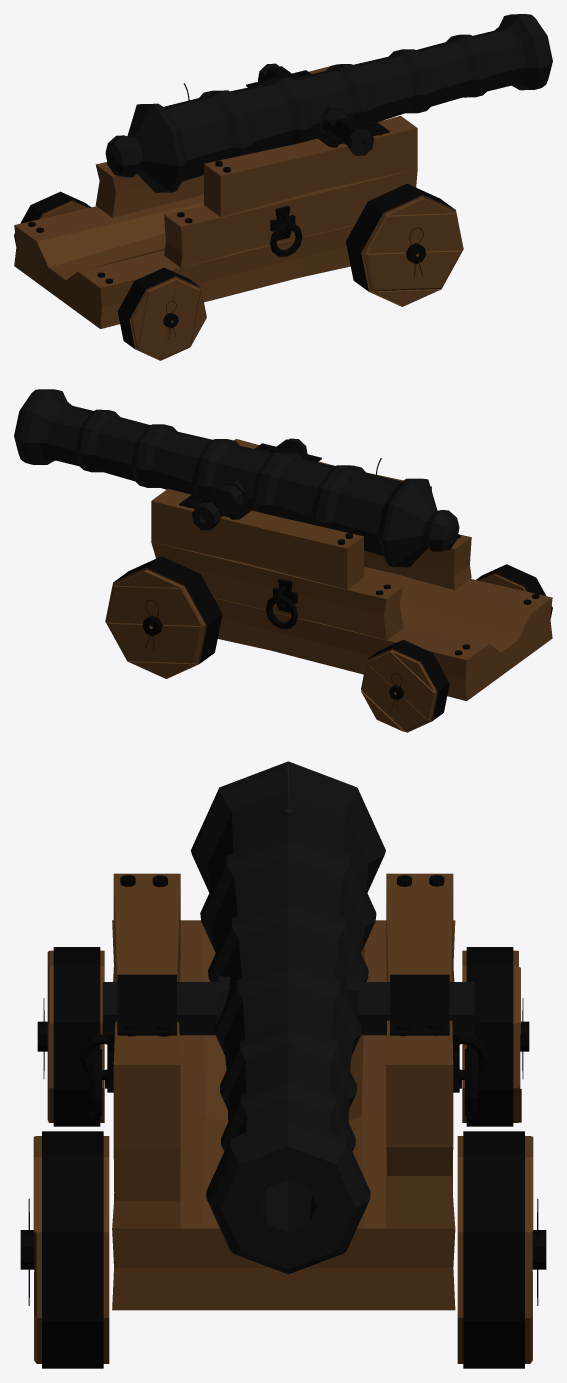
File: Canon.obj
3 renders of one model, top to bottom at view 1: azimuth 30°, elevation 25°; view 2: azimuth 150°, elevation 25°; view 3: azimuth 270°, elevation 25°, orthographic. The views are drawn at different scales.
Parts seen in each view (by area): view 1: Base, Shaft; view 2: Base, Shaft; view 3: Base, Shaft.
Part boxes in pixels (bbox=[...]): Base: bbox=[14, 66, 463, 360]; Shaft: bbox=[105, 14, 552, 192]; Base: bbox=[105, 439, 552, 732]; Shaft: bbox=[14, 389, 459, 567]; Base: bbox=[20, 873, 546, 1368]; Shaft: bbox=[102, 761, 474, 1274].
Size of the model in its own units: 4.2 by 1.81 by 2.
